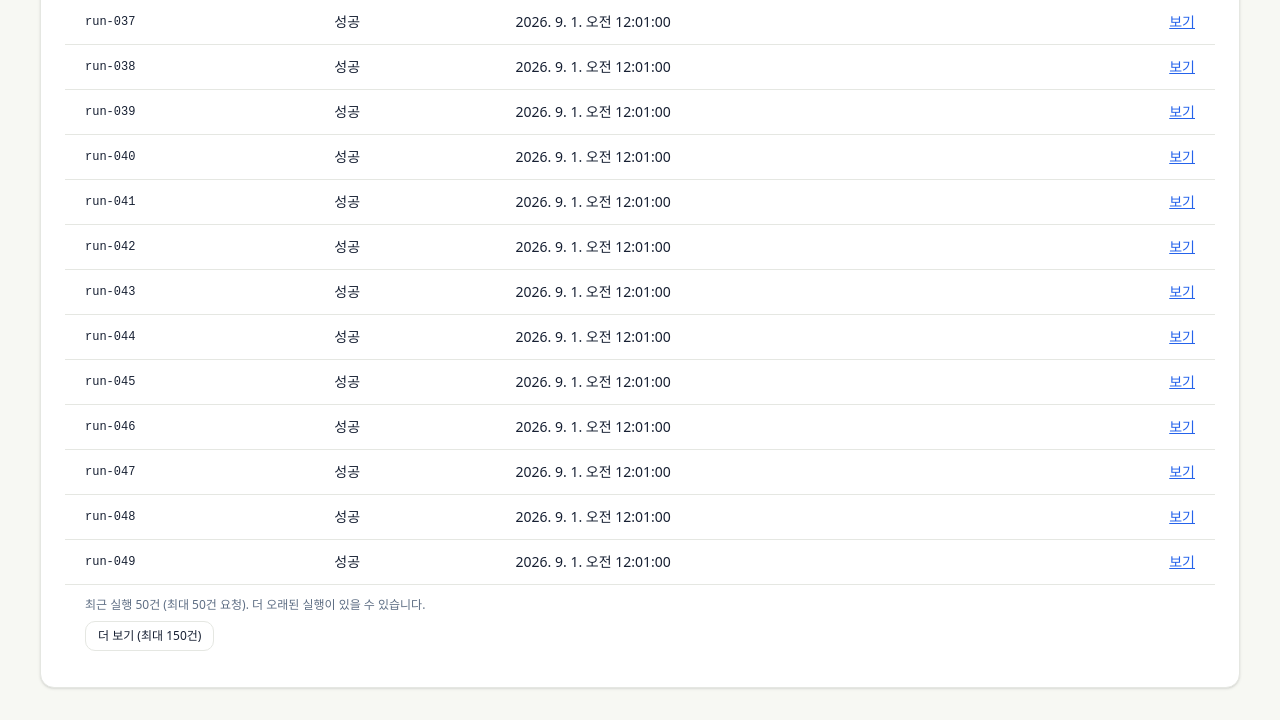
it: Table Detail run view: show more (#653) › asks for 50 first, then 150 when 'show more' is clicked, and shows the larger page
(page scrolled)
Expected: the text "run-049" is shown, [65,540,314,584]
Expected: the text "최근 실행 50건 (최대 50건 요청). 더 오래된 실행이 있을 수 있습니다." is shown, [85,596,425,613]
What coordinates should you click on to do the following:
click the button "더 보기 (최대 150건)"
I would click on:
 (150, 636)
Its box is [85,621,214,651].
(page scrolled)
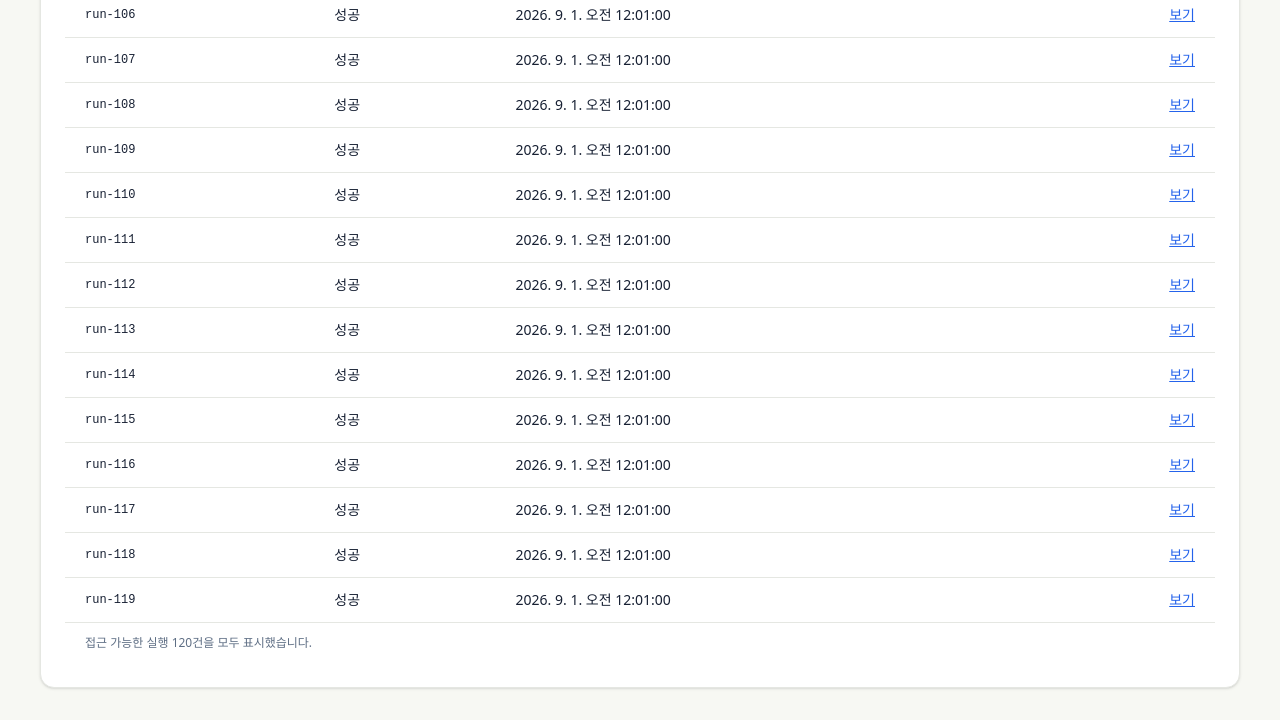
Expected: the text "run-119" is shown, [65,578,314,622]
Expected: the text "접근 가능한 실행 120건을 모두 표시했습니다." is shown, [85,634,312,651]
Expected: the button "더 보기" is gone
